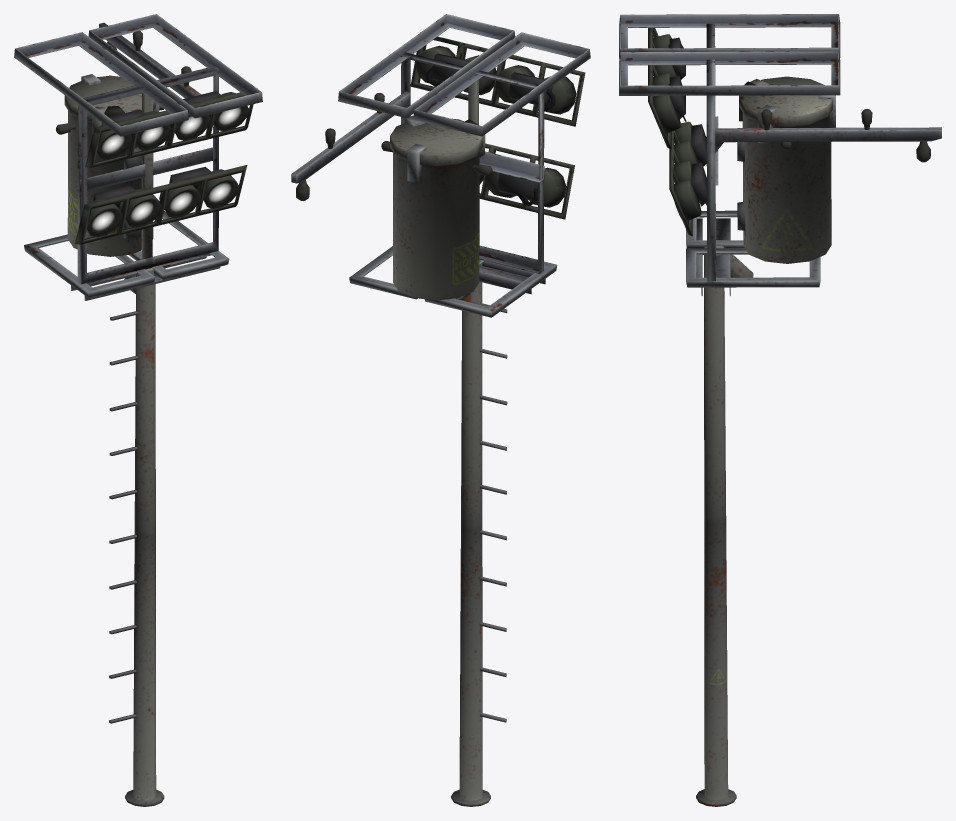
File: low_poly_reflector.glb
The picture shows the model from 3 angles, left to right: view 1: azimuth 30°, elevation 25°; view 2: azimuth 150°, elevation 25°; view 3: azimuth 270°, elevation 25°; orthographic projection. The views are drawn at different scales.
Parts seen in each view (by area): view 1: bars_LP; view 2: bars_LP; view 3: bars_LP.
Part boxes in pixels (x1,y1,x2,y2): bars_LP: (14,14,262,806); bars_LP: (291,14,590,806); bars_LP: (619,14,941,806).
Bounding box in the file's own units: 1.88 × 8 × 3.12.
Materials: 1 (1 with a texture image).
